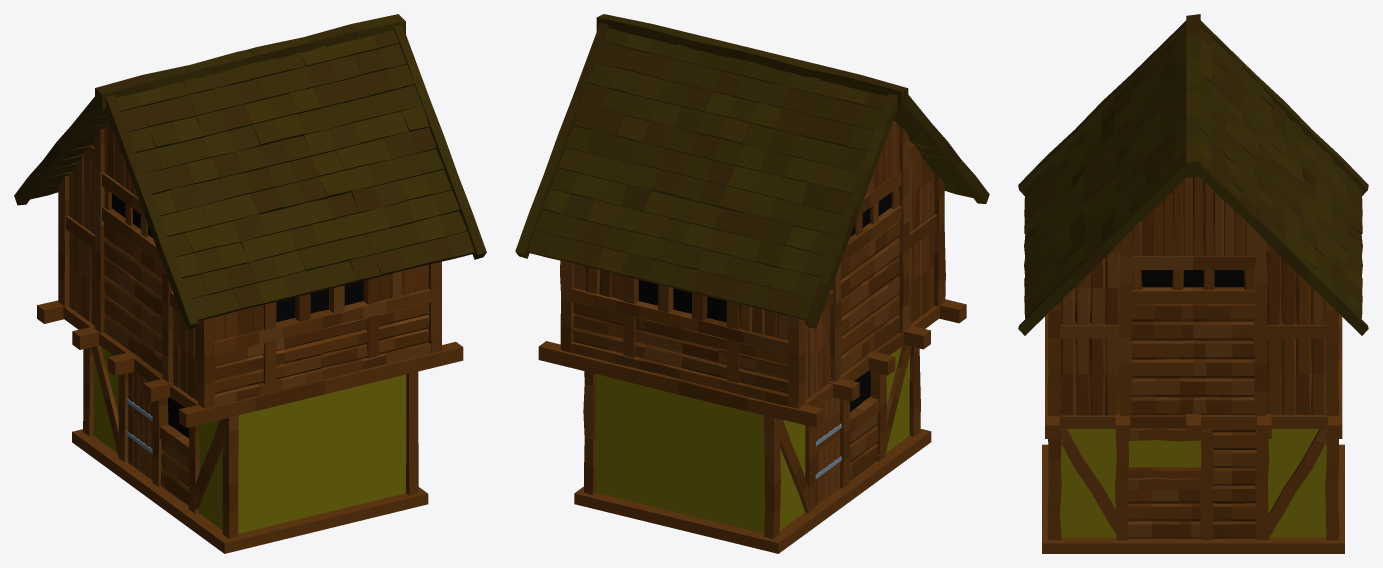
The model's file is castle_town_house_7.fbx.
3 views of the same model, side by side, from view 1: azimuth 30°, elevation 25°; view 2: azimuth 150°, elevation 25°; view 3: azimuth 270°, elevation 25° (orthographic).
Parts seen in each view (by area): view 1: house 7; view 2: house 7; view 3: house 7.
Part boxes in pixels (left/top/right/bottom): house 7: left=14, top=14, right=486, bottom=553; house 7: left=515, top=14, right=989, bottom=553; house 7: left=1018, top=14, right=1368, bottom=553.
Size of the model in its own units: 4834 by 6370 by 4803.
